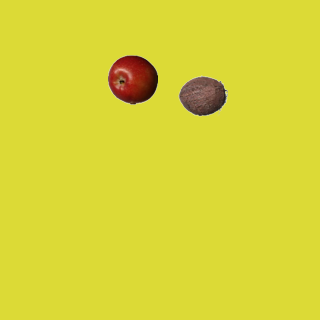Apple Braeburn: (107, 54, 157, 104)
Cocos: (177, 70, 227, 120)
